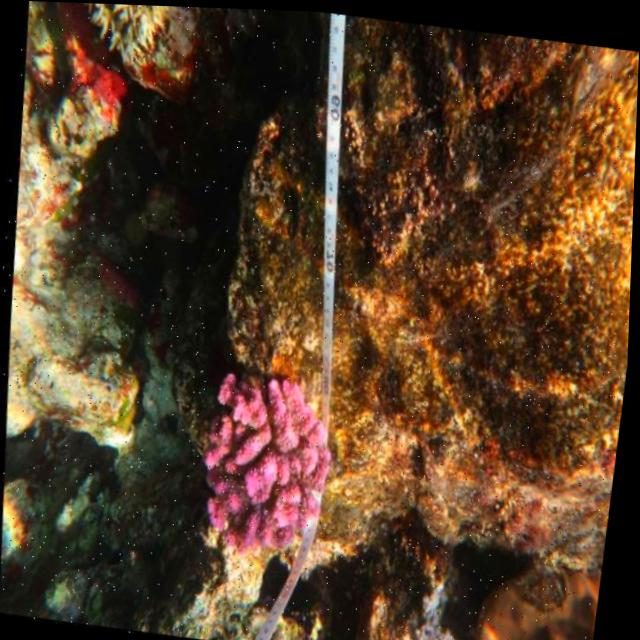Healthy Coral: (163, 347, 353, 578)
